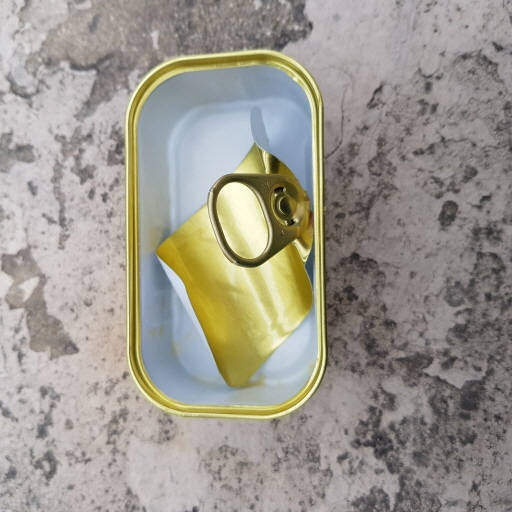Metal_2: (123, 49, 331, 424)
